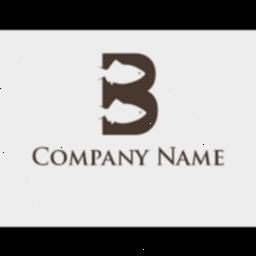a: (98, 150, 116, 170), (176, 146, 190, 168)
c: (27, 143, 51, 169)
e: (210, 147, 226, 169)
m: (192, 146, 212, 172), (70, 148, 88, 172)
n: (156, 142, 176, 172), (118, 150, 136, 170)
o: (48, 148, 70, 168)
p: (90, 147, 102, 171)
y: (133, 146, 149, 168)
